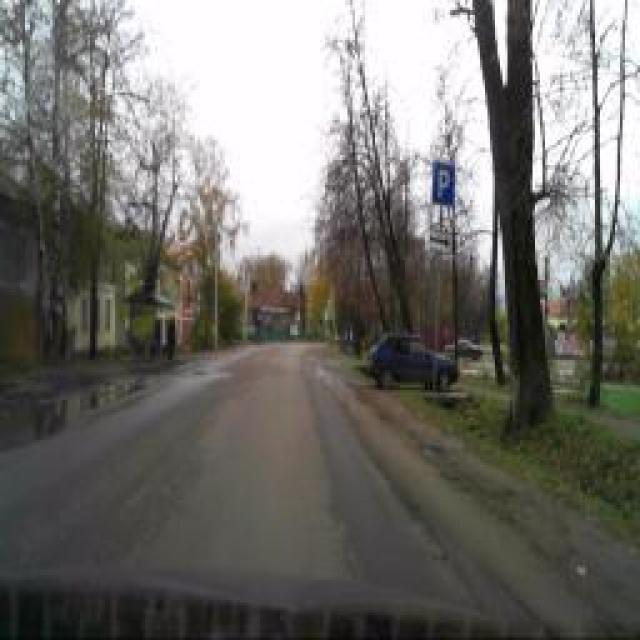sign: (366, 288, 382, 314)
